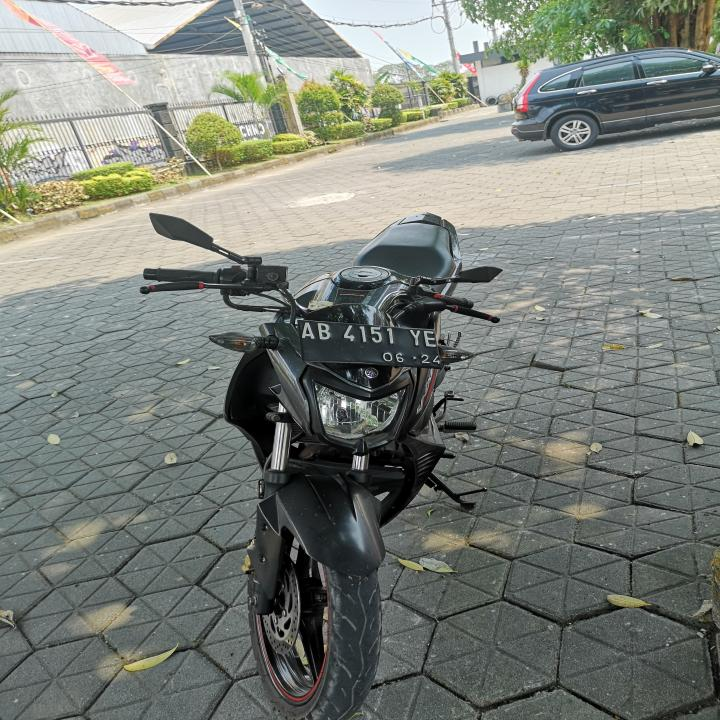plate: (297, 317, 445, 369)
